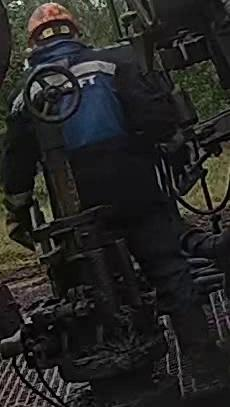gloves: (2, 192, 46, 252)
helmet: (26, 3, 77, 33)
vest: (32, 37, 125, 151)
